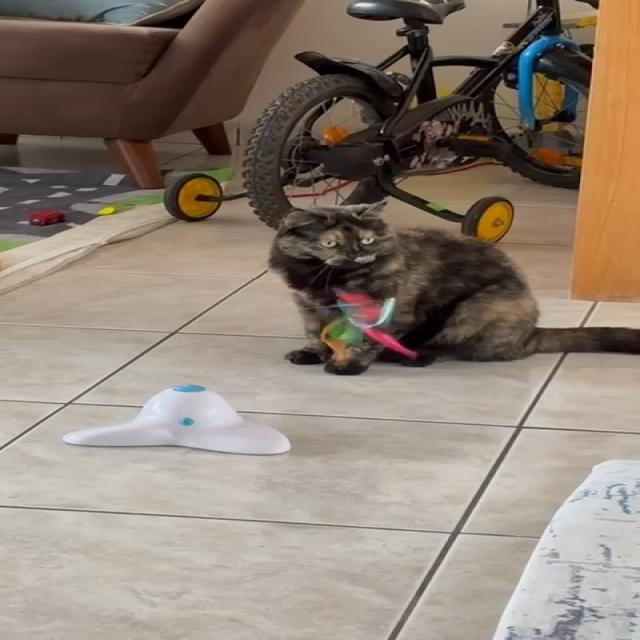authorized: (266, 199, 638, 375)
